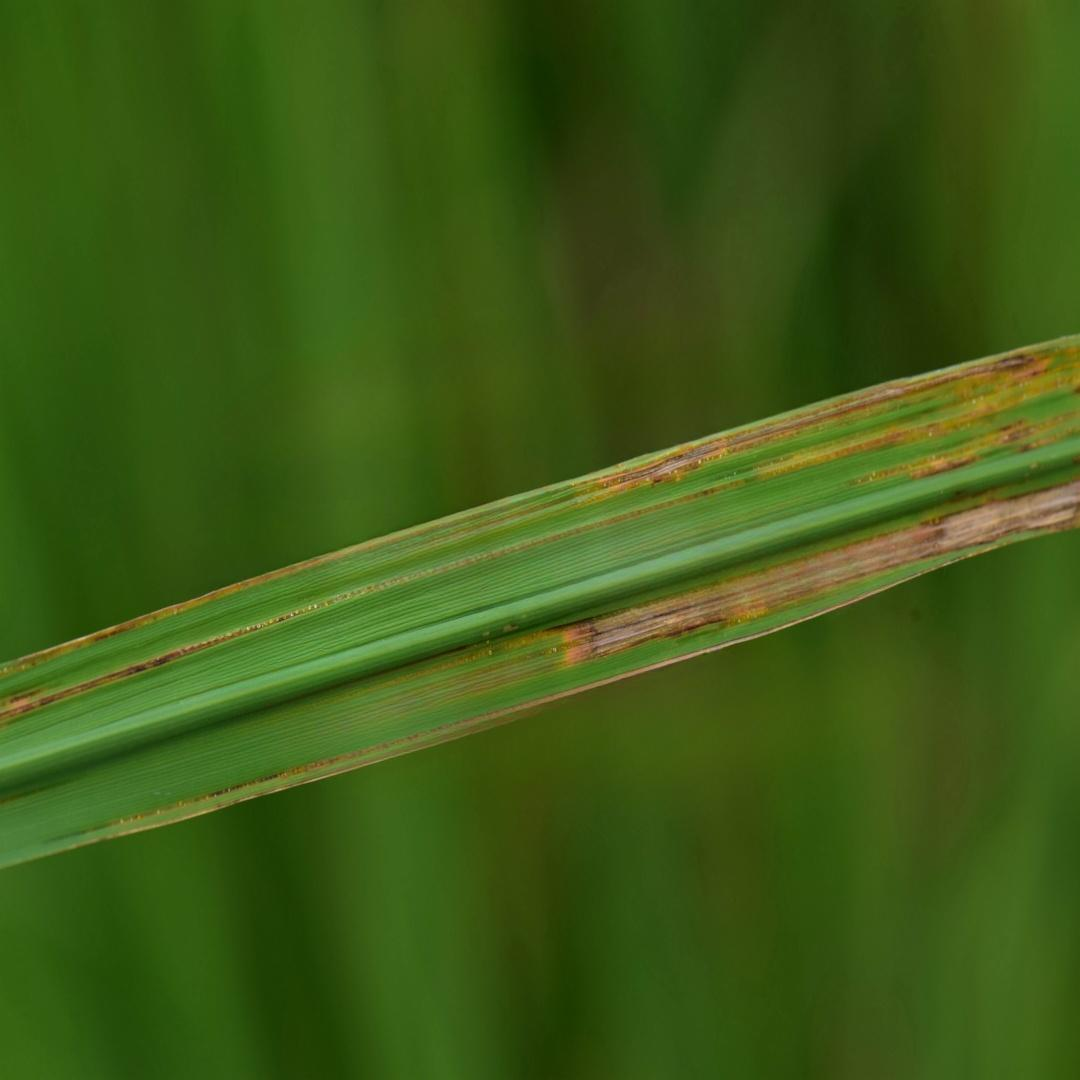BLS: (4, 359, 1079, 719), (49, 540, 1026, 843), (310, 476, 1079, 704), (428, 334, 1079, 543), (62, 695, 571, 851), (1, 537, 406, 679), (843, 407, 1079, 489)
